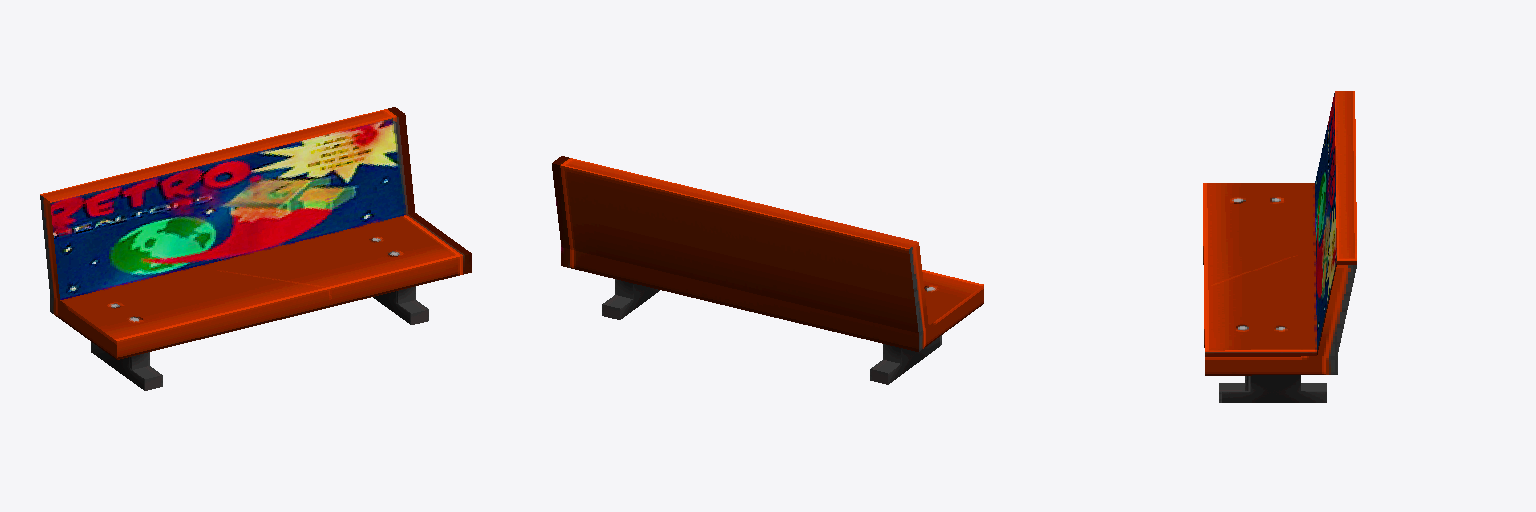
3 views of the same model, side by side, from view 1: azimuth 30°, elevation 25°; view 2: azimuth 150°, elevation 25°; view 3: azimuth 270°, elevation 25° (orthographic).
Parts seen in each view (by area): view 1: object 1; view 2: object 1; view 3: object 1.
Part boxes in pixels (bbox=[...]): object 1: bbox=[40, 107, 471, 390]; object 1: bbox=[552, 156, 983, 384]; object 1: bbox=[1203, 91, 1356, 402].
Bounding box in the file's own units: 3.2 × 1.33 × 1.2.
Materials: 1 (1 with a texture image).